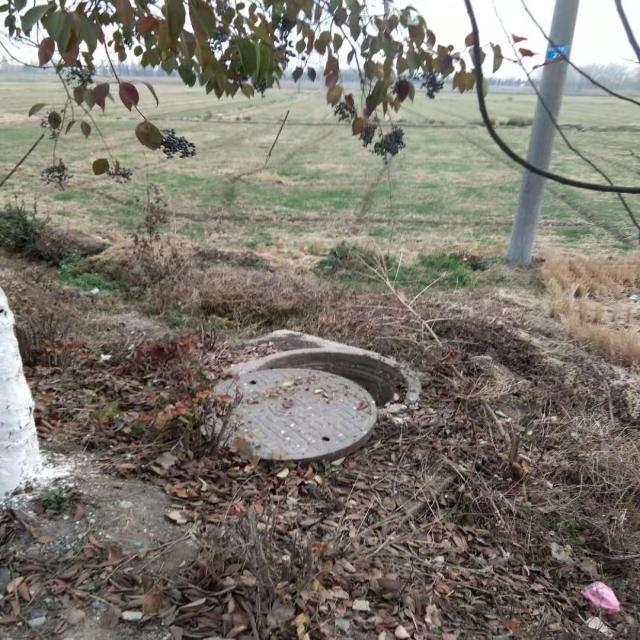Lose: (199, 345, 422, 461)
